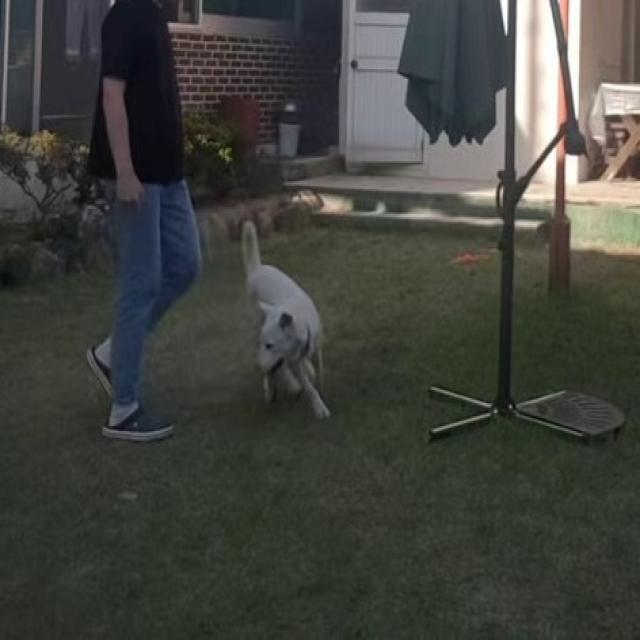Unleashed_Dog: (119, 178, 331, 423)
